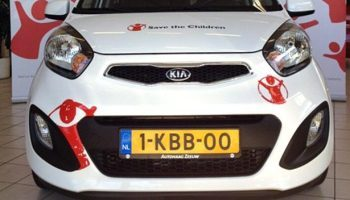kenteken: (119, 128, 241, 158)
